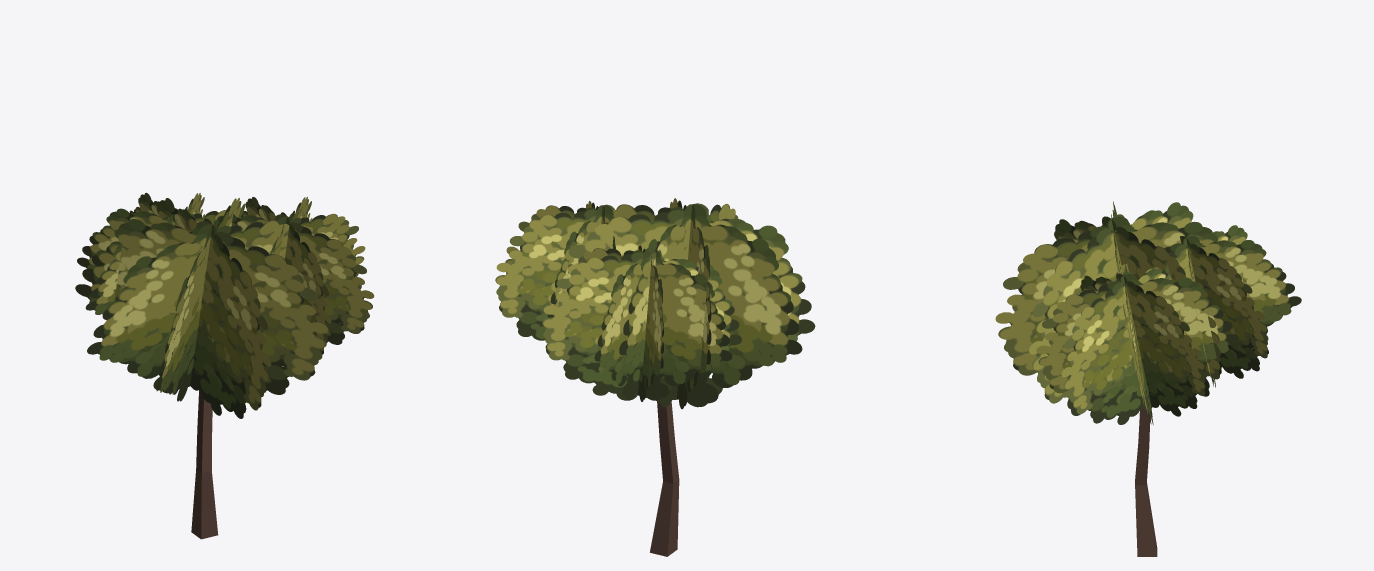
Rendered from tree.fbx.
The picture shows the model from 3 angles, left to right: view 1: azimuth 30°, elevation 25°; view 2: azimuth 150°, elevation 25°; view 3: azimuth 270°, elevation 25°; orthographic projection. The views are drawn at different scales.
Parts seen in each view (by area): view 1: bush pack.140, bush pack.142, bush pack.141, Cube.3497; view 2: bush pack.140, bush pack.141, bush pack.142, Cube.3497; view 3: bush pack.142, bush pack.140, bush pack.141, Cube.3497.
Boxes of the visible parts, box(x1,y1,x2,y2) form: bush pack.140: box(75, 198, 327, 418); bush pack.142: box(213, 196, 374, 354); bush pack.141: box(77, 192, 241, 314); Cube.3497: box(191, 389, 218, 539); bush pack.140: box(549, 198, 815, 409); bush pack.141: box(542, 245, 741, 401); bush pack.142: box(495, 201, 615, 348); Cube.3497: box(650, 400, 679, 556); bush pack.142: box(1036, 262, 1238, 425); bush pack.140: box(995, 201, 1221, 416); bush pack.141: box(1115, 225, 1301, 387); Cube.3497: box(1135, 407, 1157, 556).
Size of the model in its own units: 997 by 1296 by 1083.
Materials: 2 (2 with a texture image).
